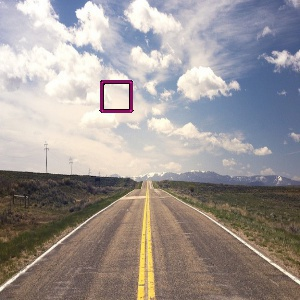square: (98, 77, 135, 114)
